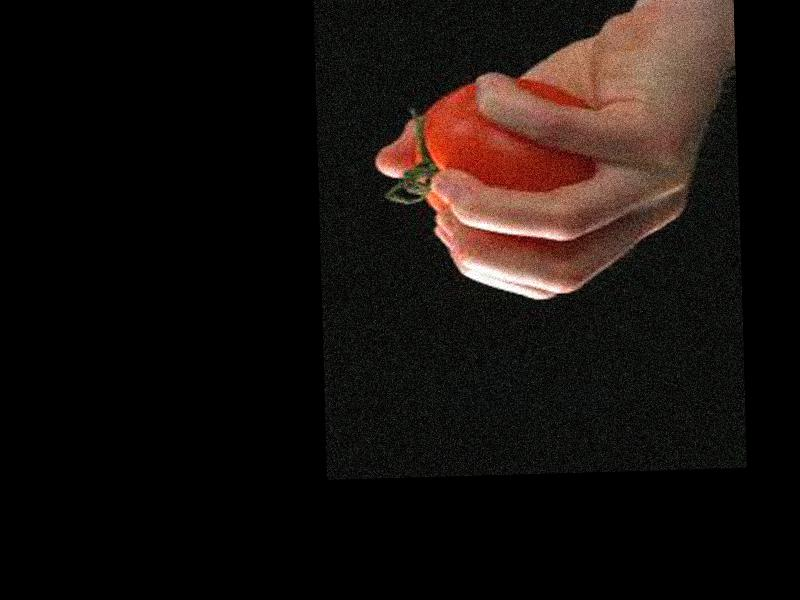Tomato: (421, 76, 602, 214)
